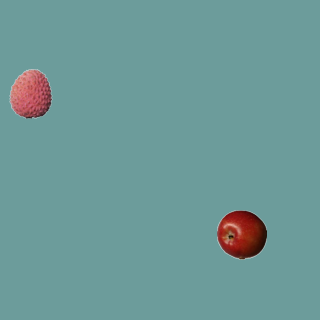Apple Braeburn: (216, 209, 266, 259)
Lychee: (5, 68, 55, 118)
